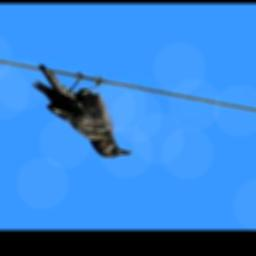Crow: (32, 65, 137, 160)
